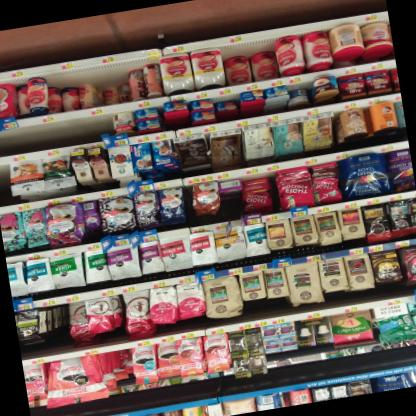empty_space: (43, 303, 74, 355), (16, 123, 46, 154), (41, 118, 69, 149), (87, 112, 115, 142), (66, 116, 91, 146), (0, 125, 20, 157), (0, 165, 15, 207)
